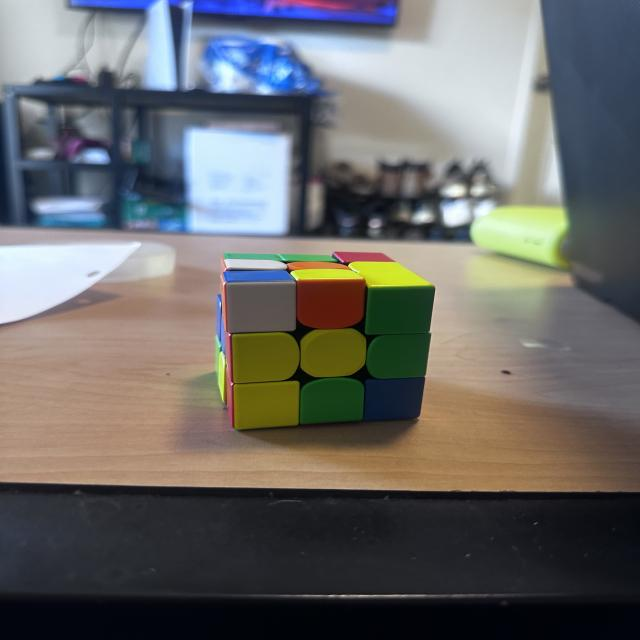sticker: (228, 285, 296, 330), (302, 329, 362, 376), (298, 280, 362, 324), (231, 336, 295, 378), (234, 383, 300, 423), (371, 288, 429, 332), (307, 381, 363, 424), (366, 379, 422, 419), (372, 338, 423, 371)
